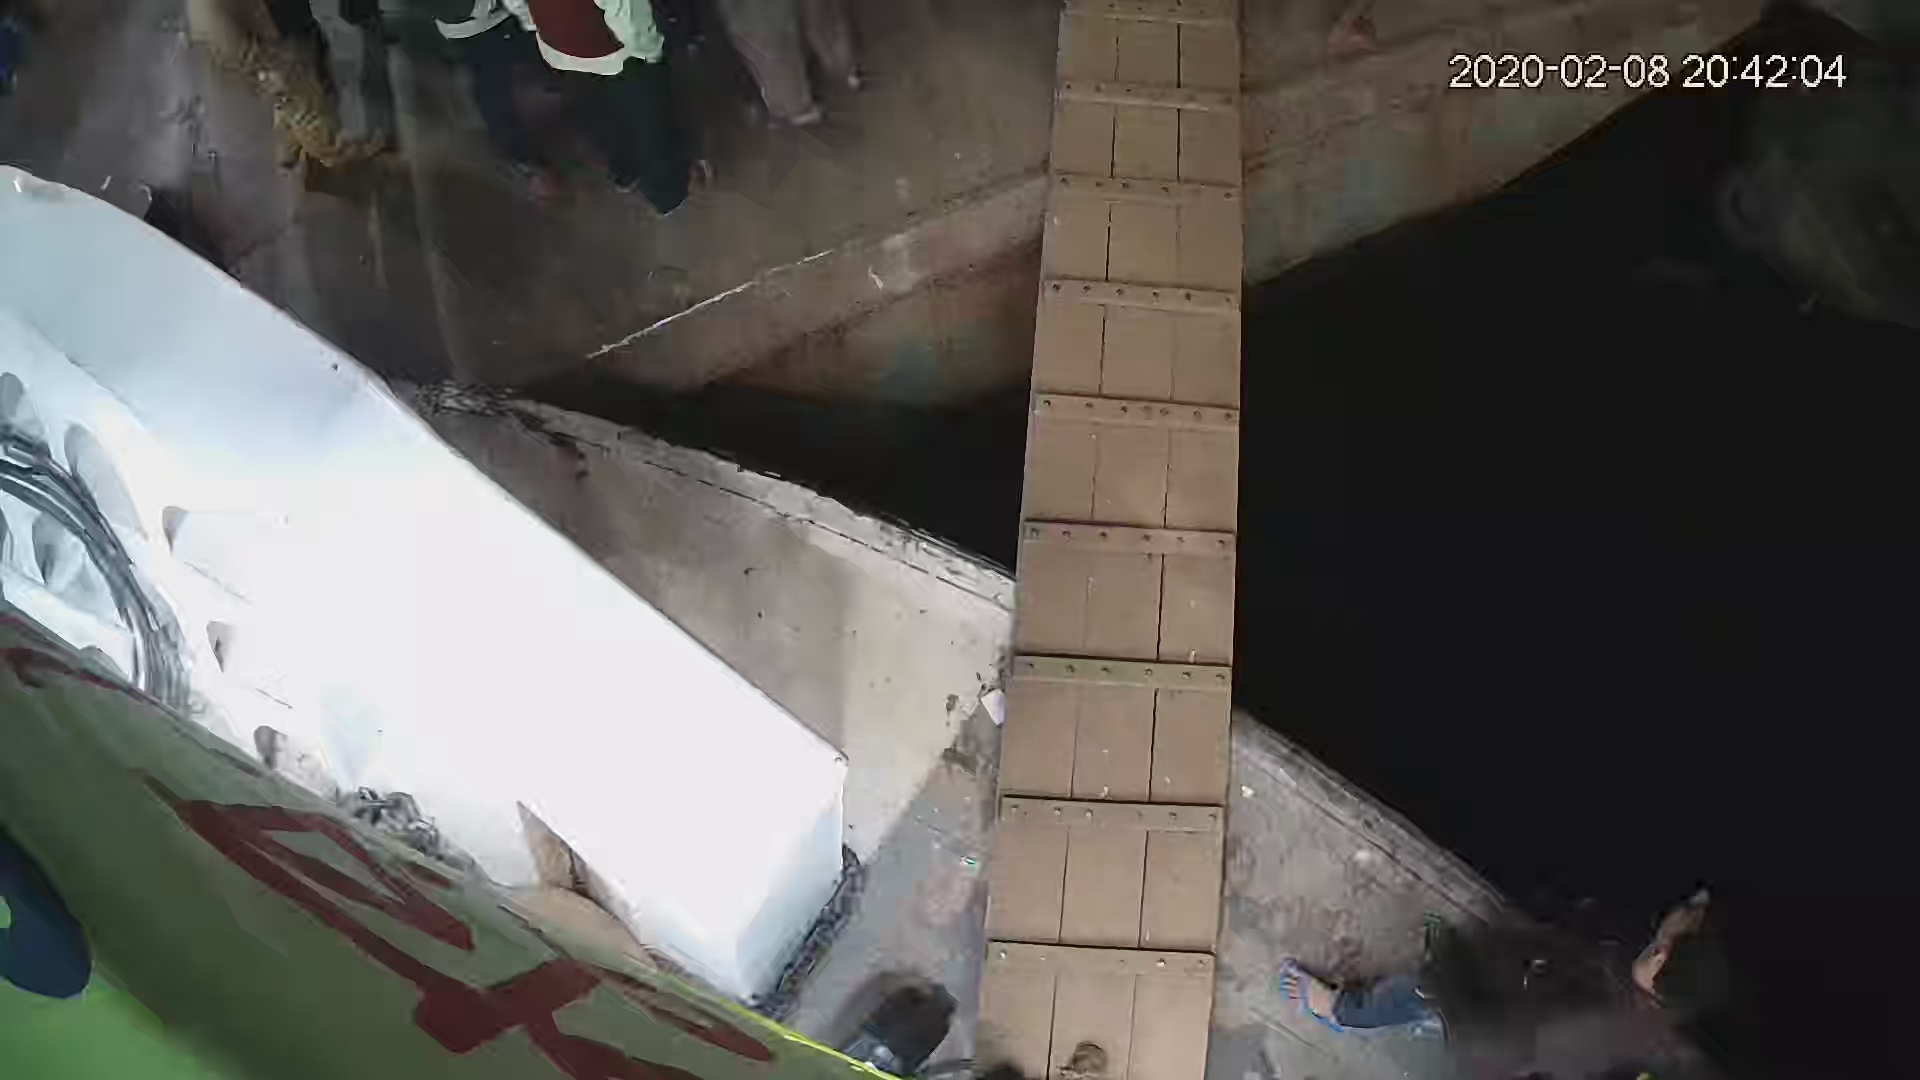person: (1277, 874, 1771, 1063), (510, 7, 721, 220)
